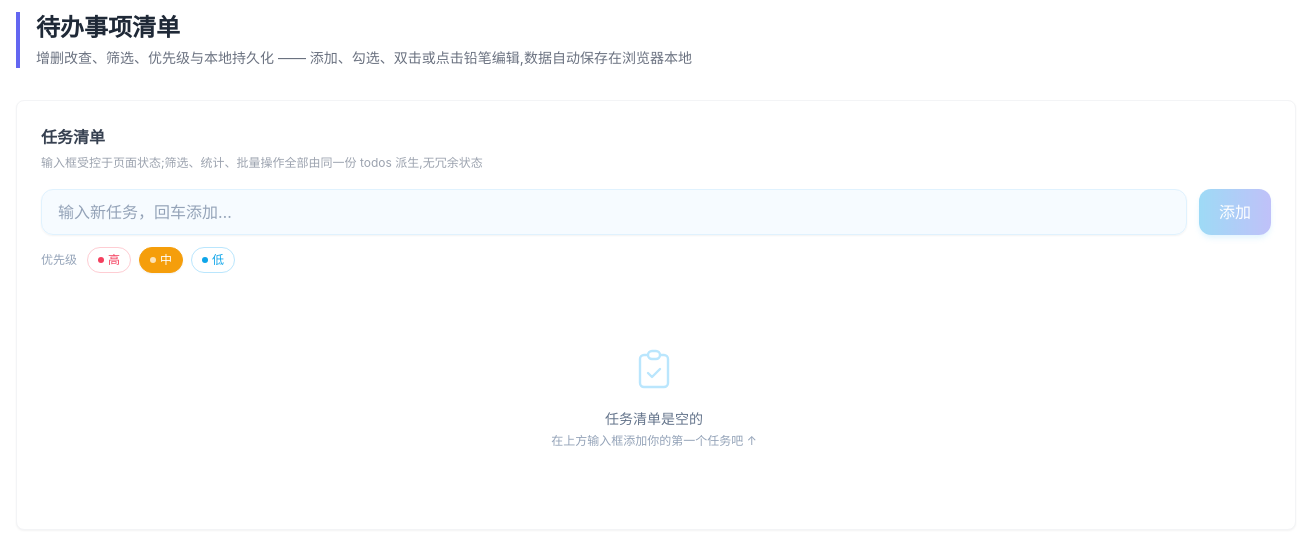
Scenario: Todo 页面 — 筛选 › 点击"待完成"tab，已完成任务不可见
Type "未完成任务" into the field with placeholder "输入新任务，回车添加…" at (614, 212), box [41,188,1187,234]
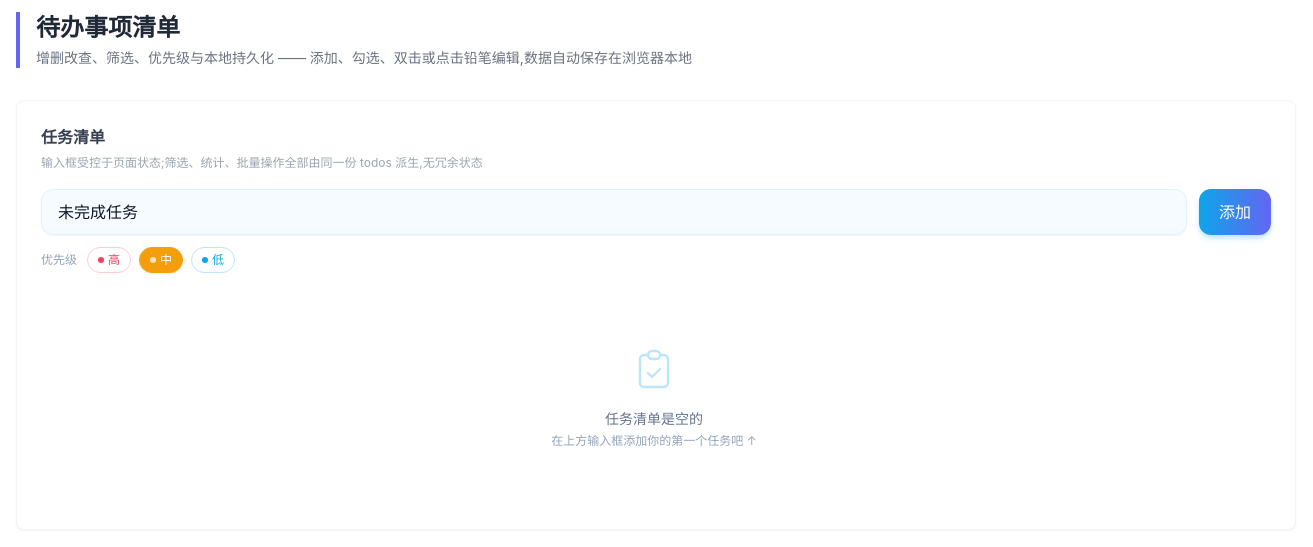
Click the button "添加" at (1235, 212), box [1199,188,1271,234]
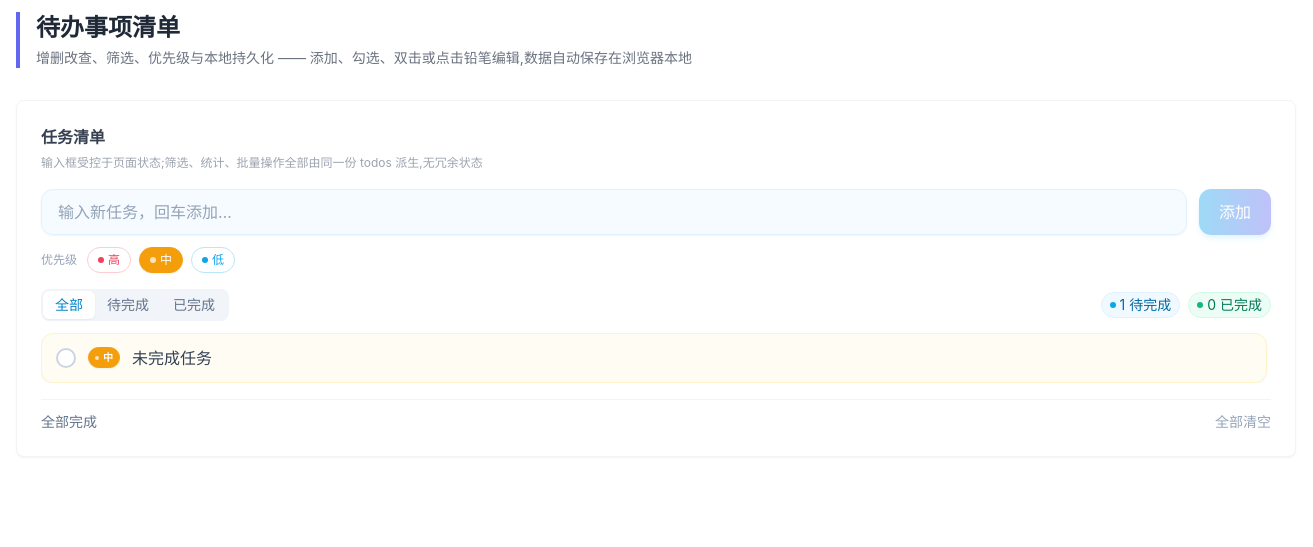
Type "已完成任务" into the field with placeholder "输入新任务，回车添加…" at (614, 212), box [41,188,1187,234]
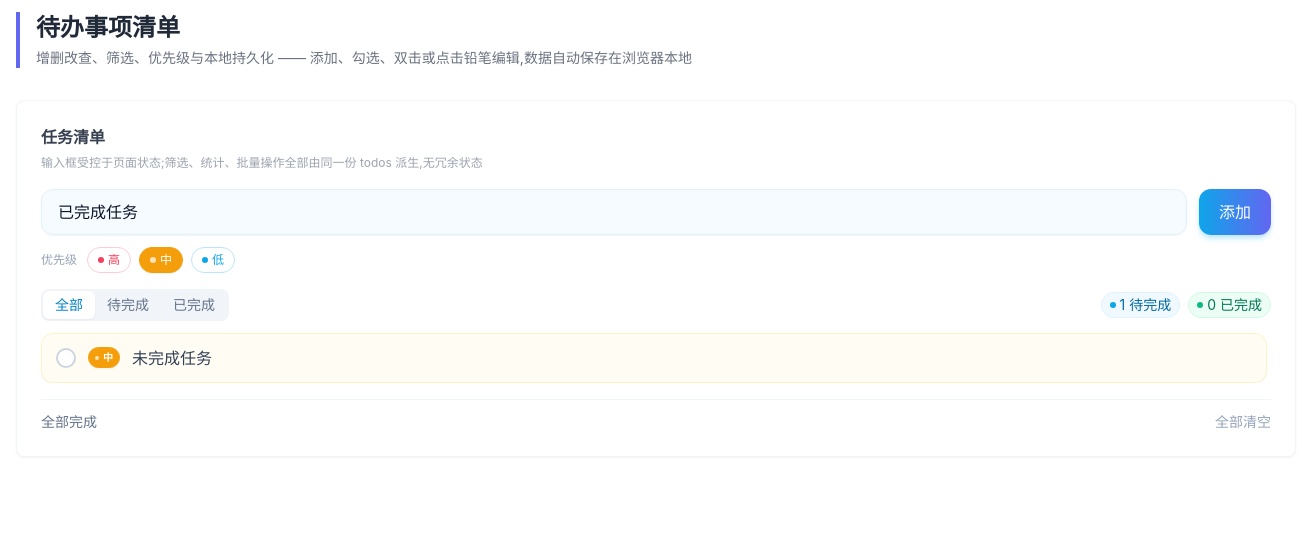
Click the button "添加" at (1235, 212), box [1199,188,1271,234]
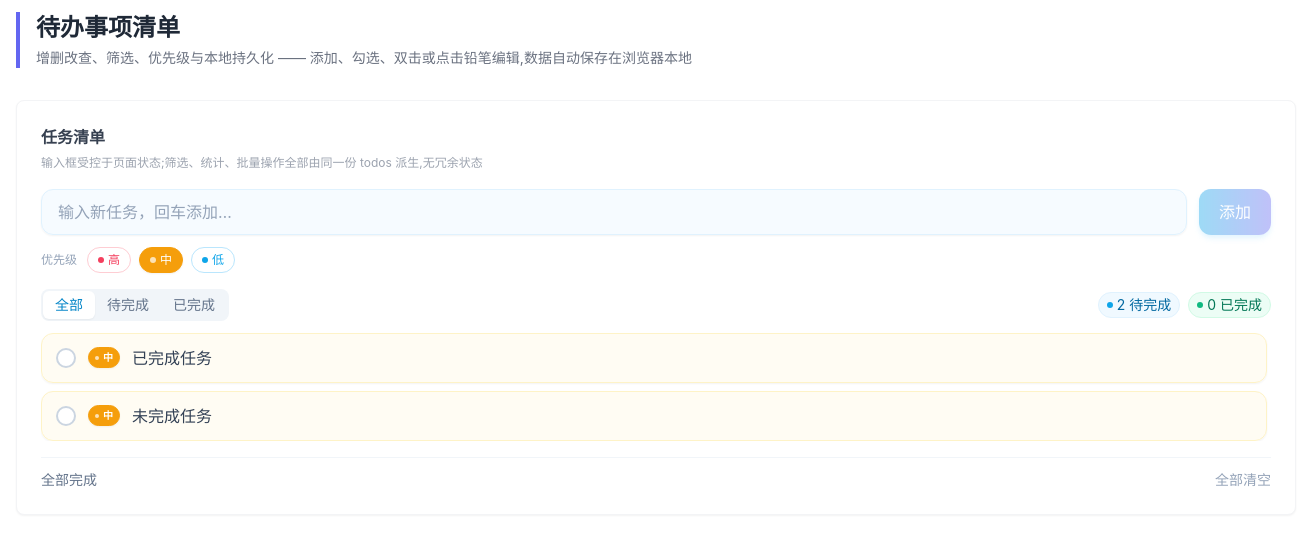
Click the button named "标记为已完成" in the row of "已完成任务" at (66, 358), box [56,348,76,368]
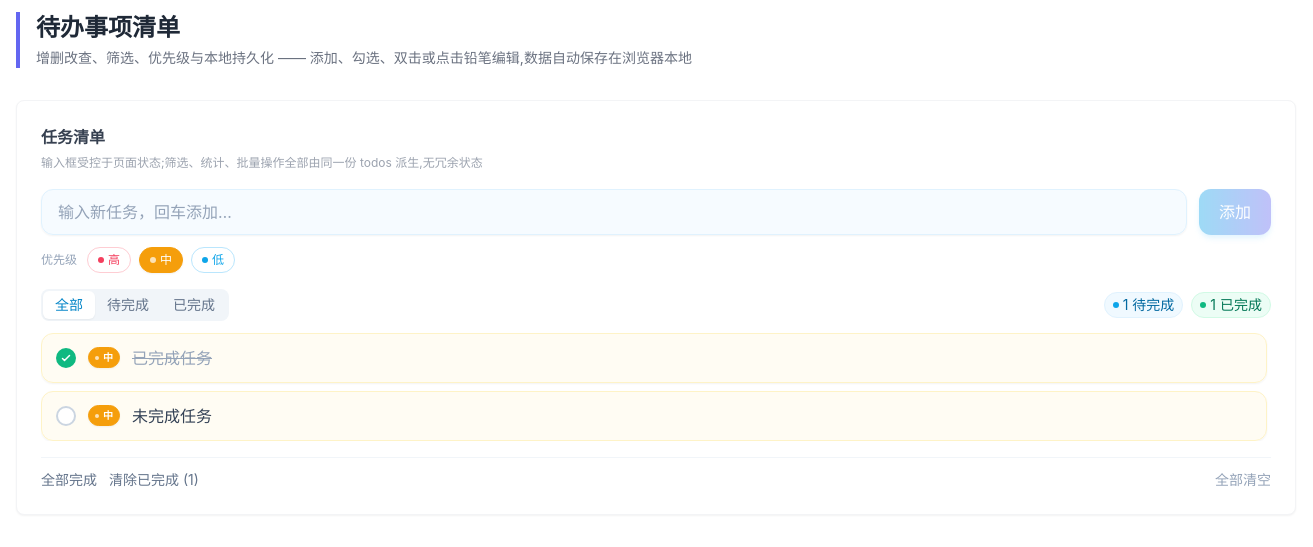
Click the button "待完成" at (128, 304), box [95,290,161,318]
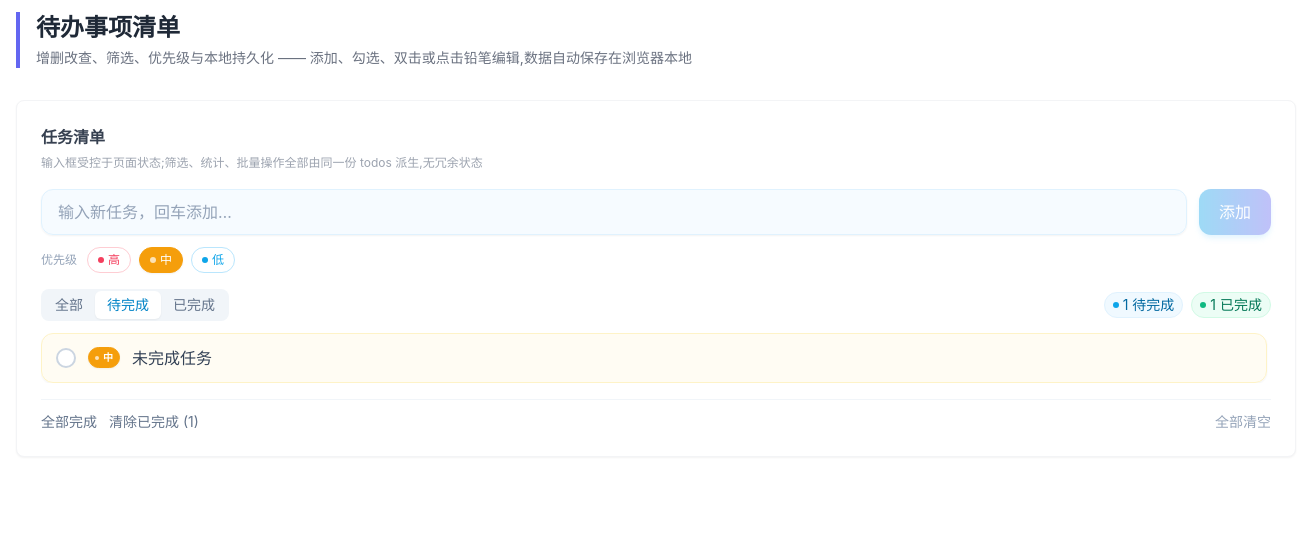
Now the text "未完成任务" is shown, box [132,348,212,368]
Now the text "已完成任务" is gone
